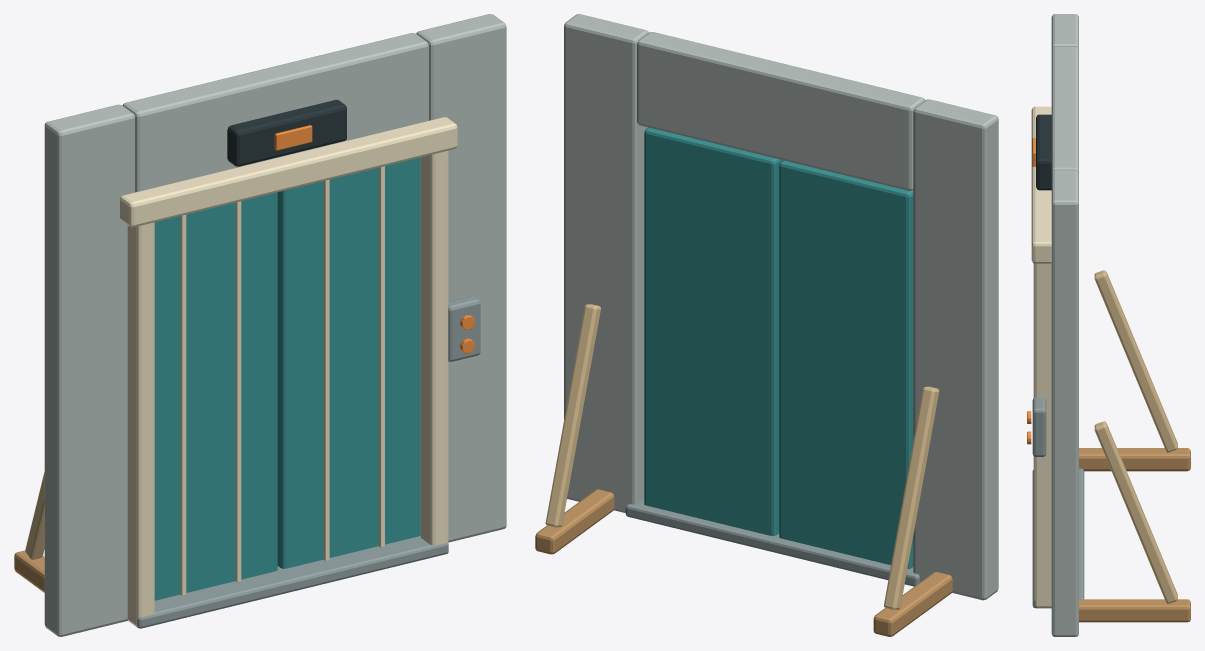
File: S023_elevator_facade.glb
3 renders of one model, left to right at view 1: azimuth 30°, elevation 25°; view 2: azimuth 150°, elevation 25°; view 3: azimuth 270°, elevation 25°, orthographic. The views are drawn at different scales.
Visible parts, largest first — view 1: elevator_door.001, wall_side, elevator_door, wall_side.001, wall_lintel, door_lintel, door_jamb.001, door_jamb, floor_track, floor_indicator, door_vertical_trim, door_vertical_trim.001 (+6 smaller); view 2: elevator_door.001, elevator_door, wall_side, wall_side.001, wall_lintel, floor_track, rear_triangular_brace, rear_triangular_brace.001, rear_plywood_foot.001, rear_plywood_foot; view 3: wall_side.001, door_jamb.001, wall_lintel, rear_triangular_brace.001, rear_triangular_brace, rear_plywood_foot.001, rear_plywood_foot, door_lintel, floor_indicator, floor_track, wall_side, call_panel.
Boxes of the visible parts, left/top/right/bottom form: elevator_door.001: left=277, top=157, right=420, bottom=568; wall_side: left=44, top=104, right=134, bottom=636; elevator_door: left=154, top=192, right=277, bottom=600; wall_side.001: left=416, top=14, right=506, bottom=542; wall_lintel: left=122, top=33, right=428, bottom=192; door_lintel: left=120, top=117, right=457, bottom=227; door_jamb.001: left=420, top=151, right=448, bottom=545; door_jamb: left=127, top=222, right=154, bottom=627; floor_track: left=137, top=536, right=448, bottom=628; floor_indicator: left=227, top=99, right=346, bottom=166; door_vertical_trim: left=180, top=214, right=186, bottom=596; door_vertical_trim.001: left=235, top=201, right=241, bottom=582; elevator_door.001: left=644, top=127, right=782, bottom=536; elevator_door: left=779, top=160, right=913, bottom=568; wall_side: left=913, top=99, right=998, bottom=600; wall_side.001: left=564, top=14, right=648, bottom=512; wall_lintel: left=637, top=32, right=924, bottom=190; floor_track: left=625, top=499, right=919, bottom=586; rear_triangular_brace: left=884, top=386, right=939, bottom=609; rear_triangular_brace.001: left=545, top=304, right=600, bottom=527; rear_plywood_foot.001: left=535, top=489, right=614, bottom=554; rear_plywood_foot: left=873, top=572, right=952, bottom=636; wall_side.001: left=1051, top=170, right=1078, bottom=636; door_jamb.001: left=1033, top=263, right=1051, bottom=607; wall_lintel: left=1051, top=46, right=1078, bottom=172; rear_triangular_brace.001: left=1094, top=421, right=1177, bottom=603; rear_triangular_brace: left=1094, top=270, right=1177, bottom=452; rear_plywood_foot.001: left=1079, top=599, right=1190, bottom=622; rear_plywood_foot: left=1079, top=448, right=1190, bottom=471; door_lintel: left=1031, top=106, right=1051, bottom=263; floor_indicator: left=1036, top=114, right=1051, bottom=190; floor_track: left=1032, top=468, right=1084, bottom=608; wall_side: left=1051, top=14, right=1078, bottom=48; call_panel: left=1032, top=397, right=1046, bottom=456.
Size of the model in its own units: 2.6 by 2.8 by 0.9525.
